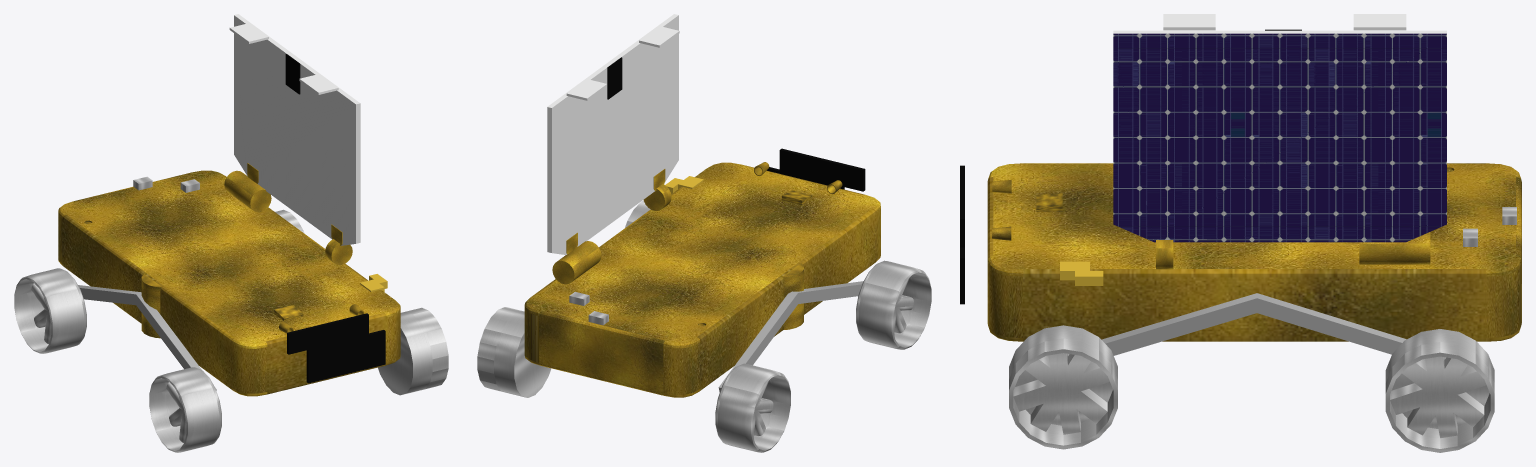
File: pragyan.glb
3 renders of one model, left to right at view 1: azimuth 30°, elevation 25°; view 2: azimuth 150°, elevation 25°; view 3: azimuth 270°, elevation 25°, orthographic. The views are drawn at different scales.
Parts seen in each view (by area): view 1: Object_9, Object_4, Object_11, Object_12, Object_10, Object_13, Object_5, Object_3; view 2: Object_9, Object_4, Object_11, Object_12, Object_10, Object_13, Object_6, Object_3; view 3: Object_2, Object_9, Object_11, Object_10, Object_13, Object_3, Object_7, Object_12.
Boxes of the visible parts, box(x1,y1,x2,y2) form: Object_9: box(58, 163, 400, 396); Object_4: box(234, 15, 355, 245); Object_11: box(14, 176, 448, 452); Object_12: box(285, 54, 385, 383); Object_10: box(78, 285, 216, 390); Object_13: box(229, 23, 338, 94); Object_5: box(356, 103, 360, 243); Object_3: box(234, 14, 359, 104); Object_9: box(524, 162, 880, 397); Object_4: box(552, 15, 678, 254); Object_11: box(477, 201, 931, 452); Object_12: box(607, 57, 865, 191); Object_10: box(718, 281, 863, 392); Object_13: box(566, 26, 679, 100); Object_6: box(547, 107, 551, 252); Object_3: box(547, 14, 678, 107); Object_2: box(1113, 33, 1446, 242); Object_9: box(987, 163, 1521, 341); Object_11: box(1009, 207, 1516, 452); Object_10: box(1102, 293, 1406, 355); Object_13: box(1163, 14, 1406, 30); Object_3: box(1113, 30, 1446, 33); Object_7: box(1060, 261, 1103, 285); Object_12: box(960, 29, 1301, 304).
Bounding box in the file's own units: 97.25 × 102 × 133.
Materials: 11 (3 with a texture image).
